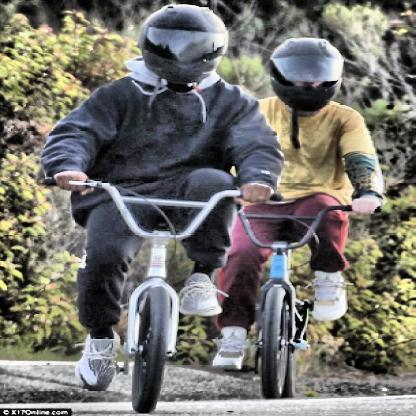wear: (144, 3, 218, 90), (265, 36, 341, 119)
